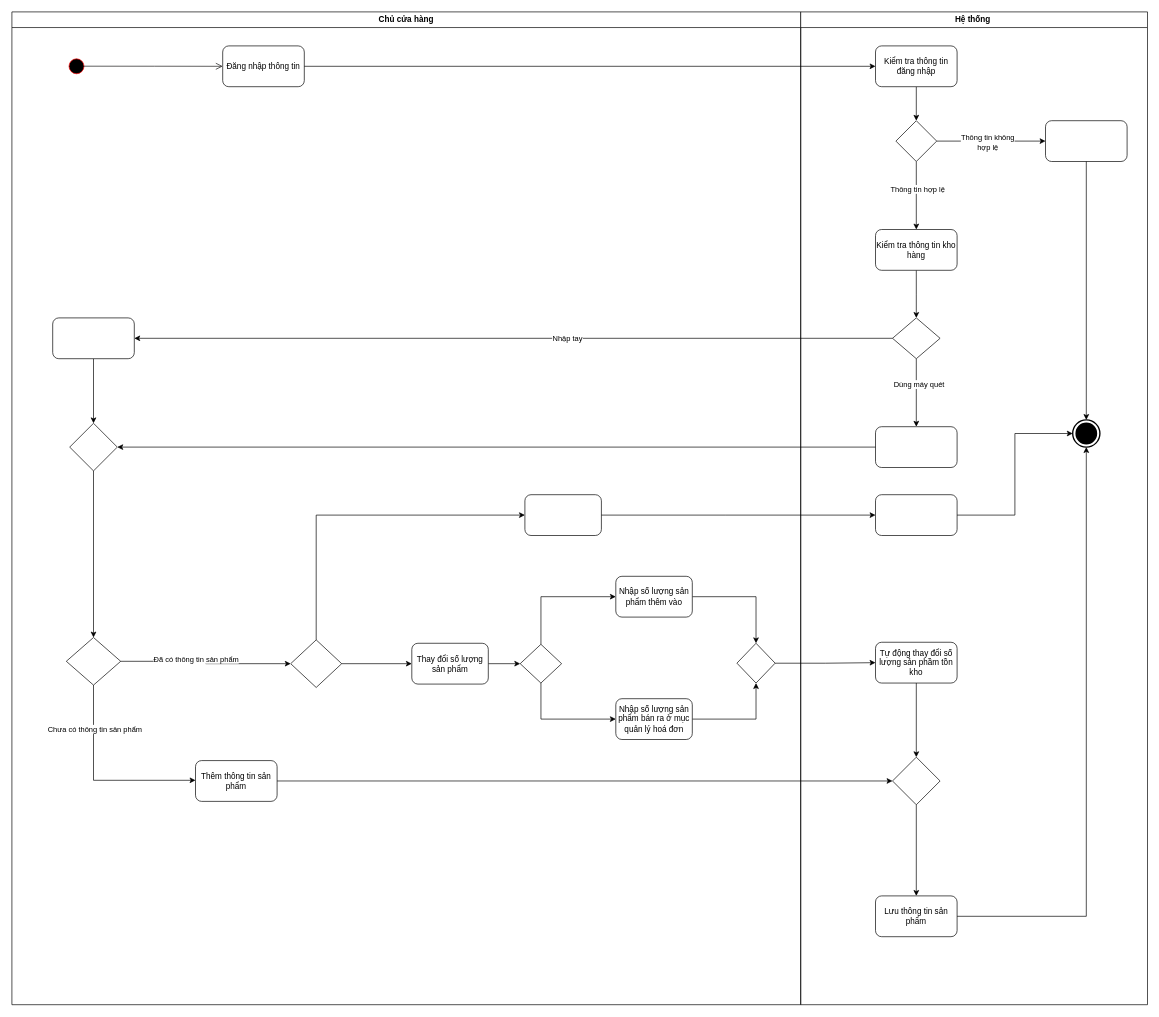
Some shapes in this 1159 by 1017 pixel diagram are drawn without their labels. Here are the shapes that lost their labels. From the top down, the centre of each, then its label:
(x=1086, y=141): Thông báo không hợp lệ
(x=93, y=338): Nhập mã sản phẩm
(x=916, y=447): Quét mã sản phẩm
(x=562, y=515): Xoá thông tin sản phẩm
(x=916, y=515): Thông báo "Đã xoá sản phẩm"
